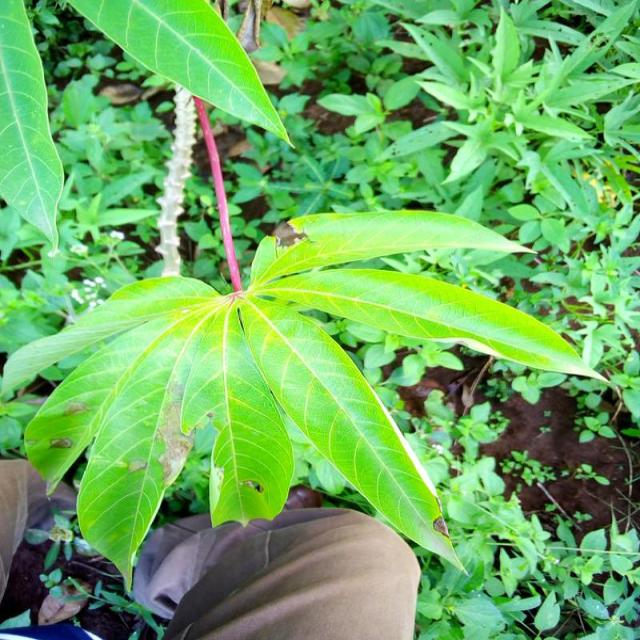cassava leaf: (5, 84, 610, 594), (66, 0, 295, 150), (0, 0, 65, 256)
